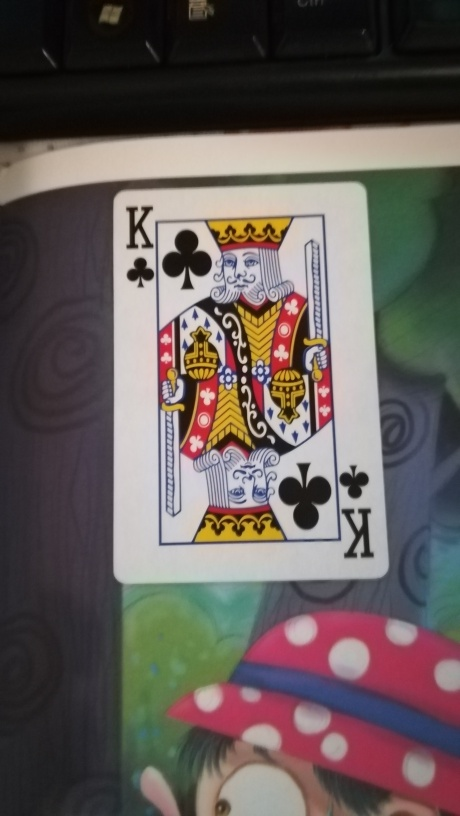mh k: (106, 180, 388, 585)
